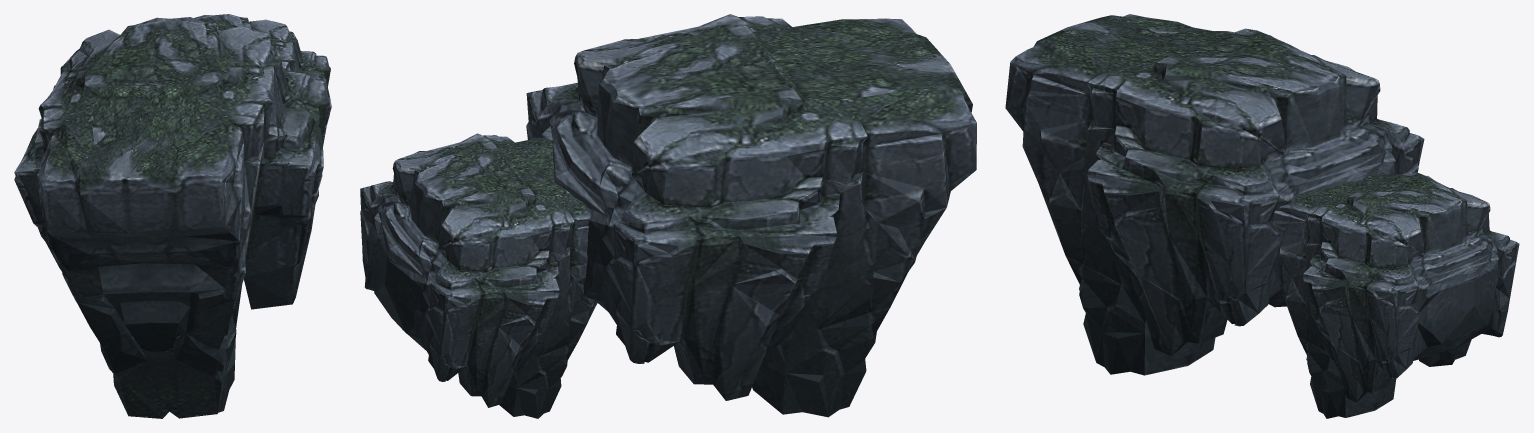
Rendered from cs_lobbynew02_shitou01_04.FBX.
The picture shows the model from 3 angles, left to right: view 1: azimuth 30°, elevation 25°; view 2: azimuth 150°, elevation 25°; view 3: azimuth 270°, elevation 25°; orthographic projection. The views are drawn at different scales.
Parts seen in each view (by area): view 1: cs_lobbynew02_shitou01_04; view 2: cs_lobbynew02_shitou01_04; view 3: cs_lobbynew02_shitou01_04.
Part boxes in pixels (x1=…): cs_lobbynew02_shitou01_04: x1=14, y1=14, x2=331, y2=418; cs_lobbynew02_shitou01_04: x1=360, y1=14, x2=976, y2=418; cs_lobbynew02_shitou01_04: x1=1005, y1=14, x2=1519, y2=418.
Bounding box in the file's own units: 1715 × 1275 × 1789.
